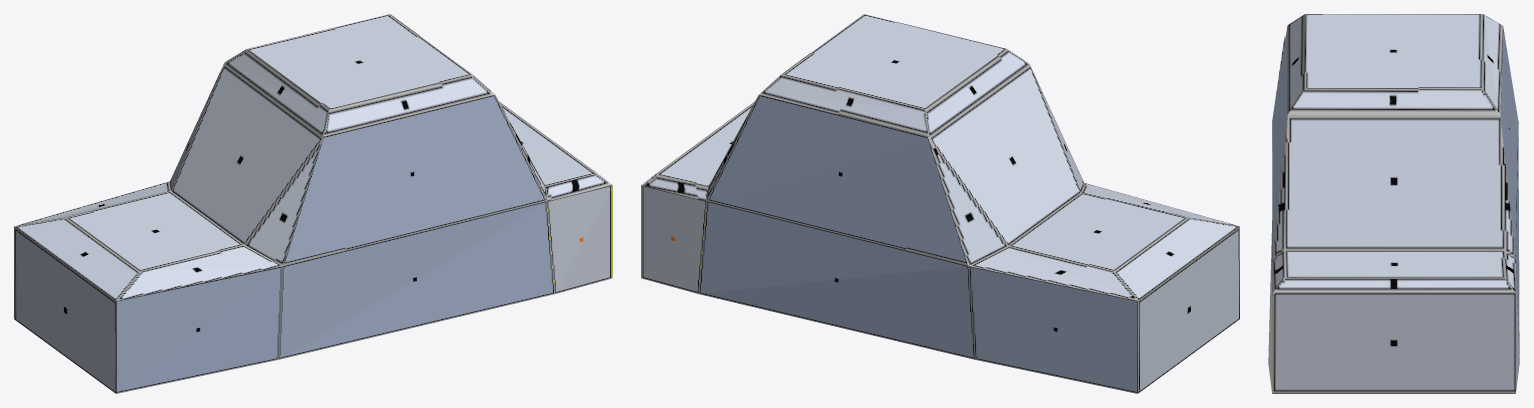
The model's file is Normal_Car.obj.
3 views of the same model, side by side, from view 1: azimuth 30°, elevation 25°; view 2: azimuth 150°, elevation 25°; view 3: azimuth 270°, elevation 25° (orthographic). The views are drawn at different scales.
Size of the model in its own units: 5 by 2.17 by 2.06.
